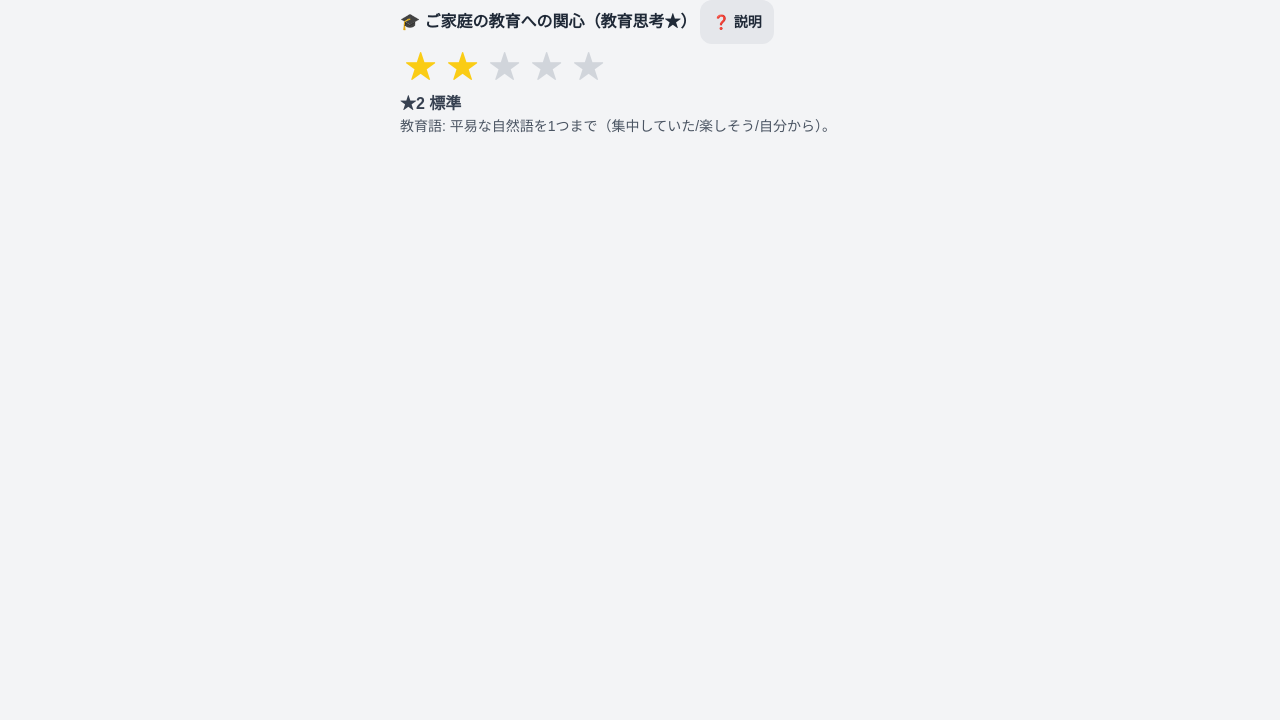
Test case: EducationLevelPicker › 「❓ 説明」で段階ごとの呼称・想定顧客像・教育語の使い方の表を開く
Click the button "❓ 説明" at (737, 22), box [700, 0, 774, 44]
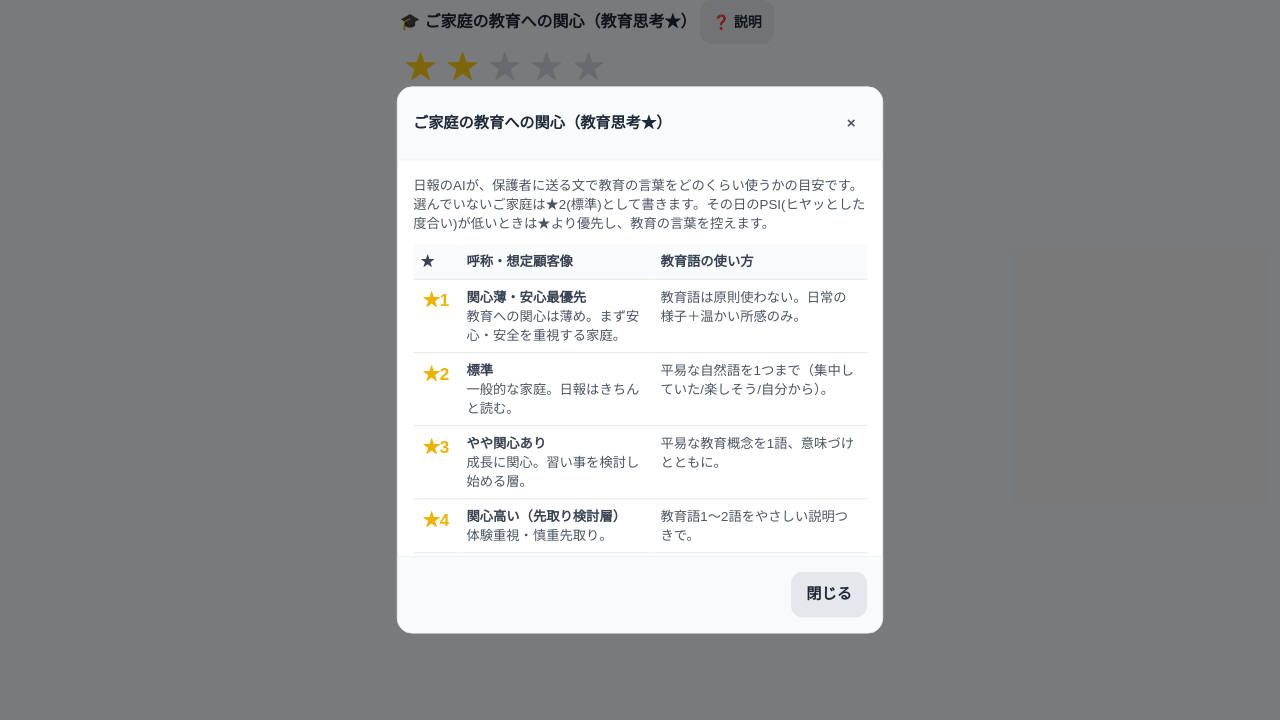
Expected: the text "★1" is shown, [413, 279, 458, 352]
Expected: the text "教育への関心は薄め。まず安心・安全を重視する家庭。" is shown, [466, 306, 645, 344]
Expected: the text "教育語は原則使わない。日常の様子＋温かい所感のみ。" is shown, [653, 279, 867, 352]
